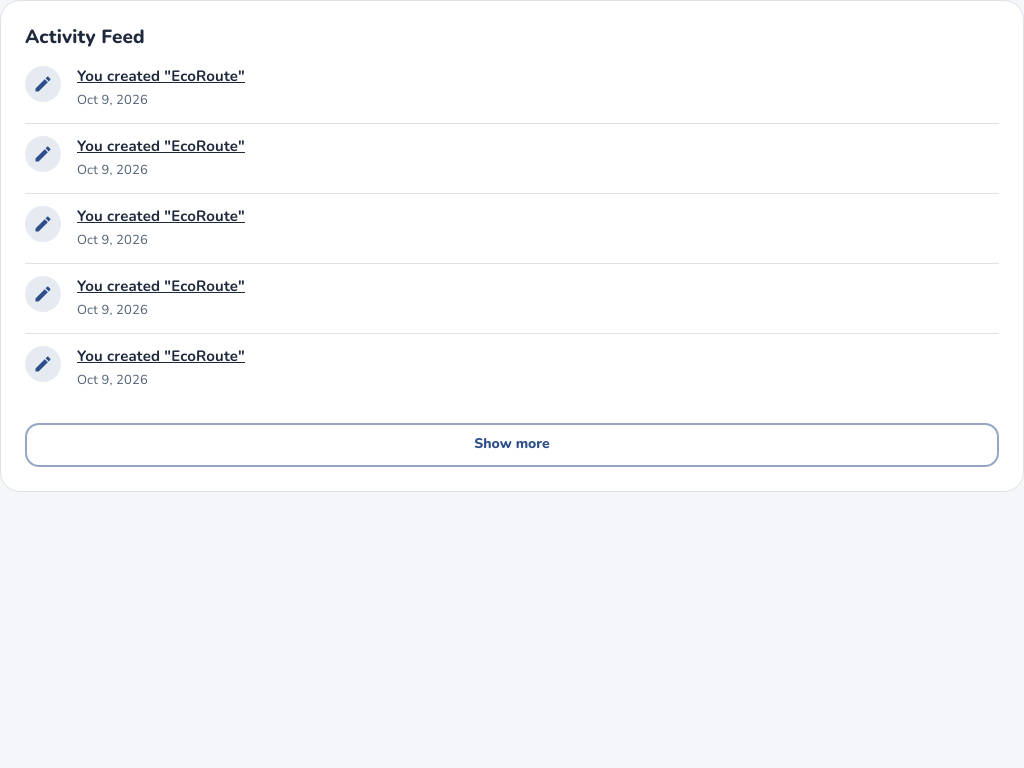
Test: ActivityFeed › Show more replaces the newest few by the newest page, then follows the cursor
The width and height of the screenshot is (1024, 768).
Click the button "Show more" at (512, 445), box [25,423,999,467]
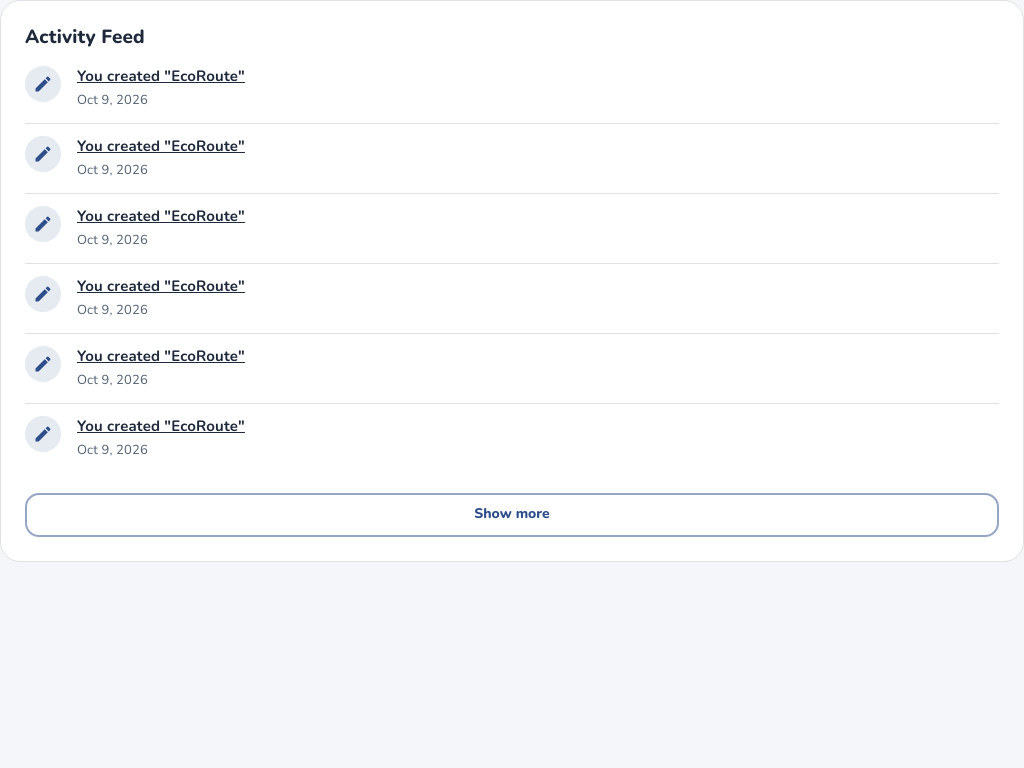
Check: the number of list items is 6, box [25,66,245,109]; [25,123,999,193]; [25,193,999,263]; [25,263,999,333]; [25,333,999,403]; [25,403,999,461]
Click the button "Show more" at (512, 515), box [25,493,999,537]
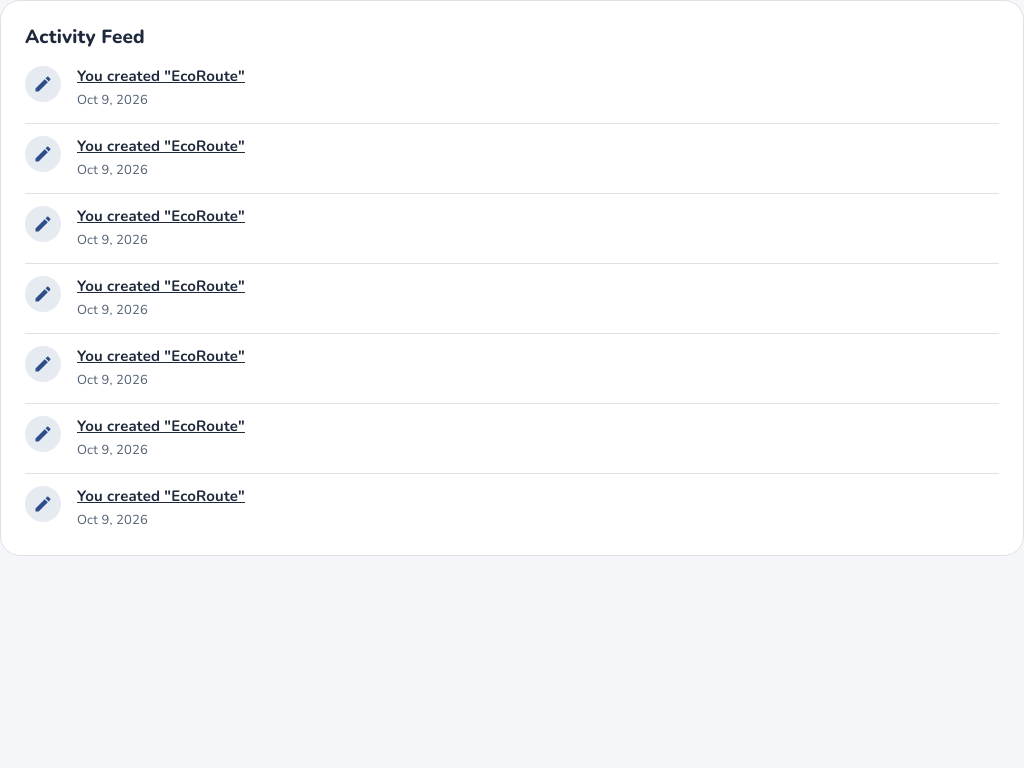
Check: the number of list items is 7
Check: the button "Show more" is gone
